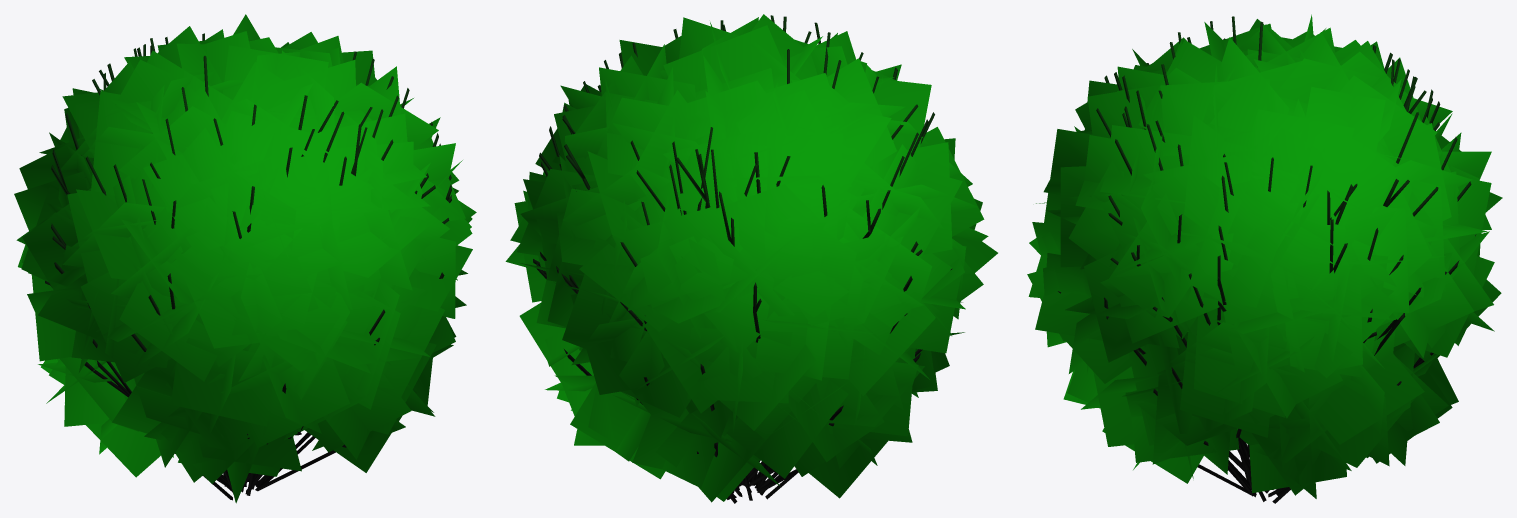
The model's file is IL3DN_Shrub_Round_02_OneMesh.FBX.
3 renders of one model, left to right at view 1: azimuth 30°, elevation 25°; view 2: azimuth 150°, elevation 25°; view 3: azimuth 270°, elevation 25°, orthographic. The views are drawn at different scales.
Parts seen in each view (by area): view 1: IL3DN_Shrub_Round_02_LOD0; view 2: IL3DN_Shrub_Round_02_LOD0; view 3: IL3DN_Shrub_Round_02_LOD0.
Boxes of the visible parts, x1=… form: IL3DN_Shrub_Round_02_LOD0: x1=14, y1=14, x2=476, y2=503; IL3DN_Shrub_Round_02_LOD0: x1=505, y1=14, x2=997, y2=503; IL3DN_Shrub_Round_02_LOD0: x1=1027, y1=14, x2=1502, y2=503.
Size of what is drawn, in the model's own units: 68 by 70.69 by 66.4.
